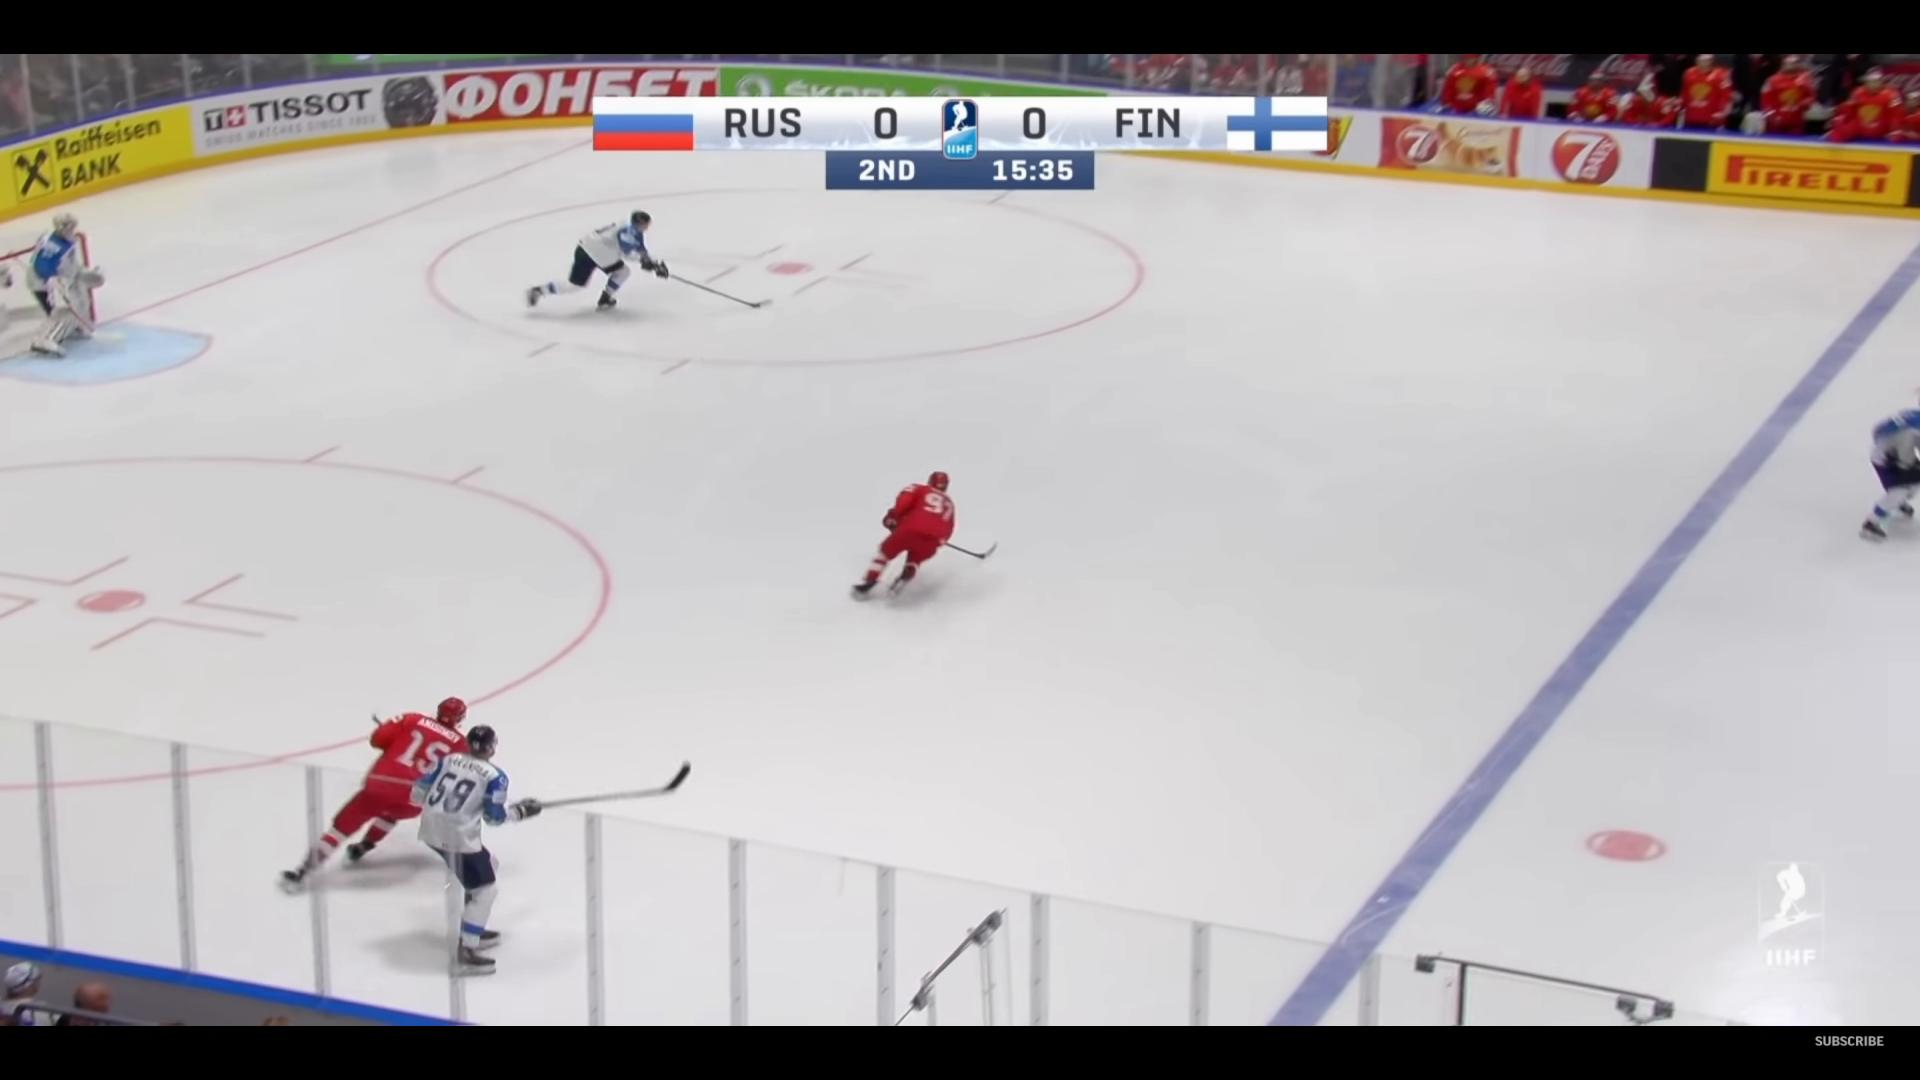puck: (751, 304, 760, 307)
